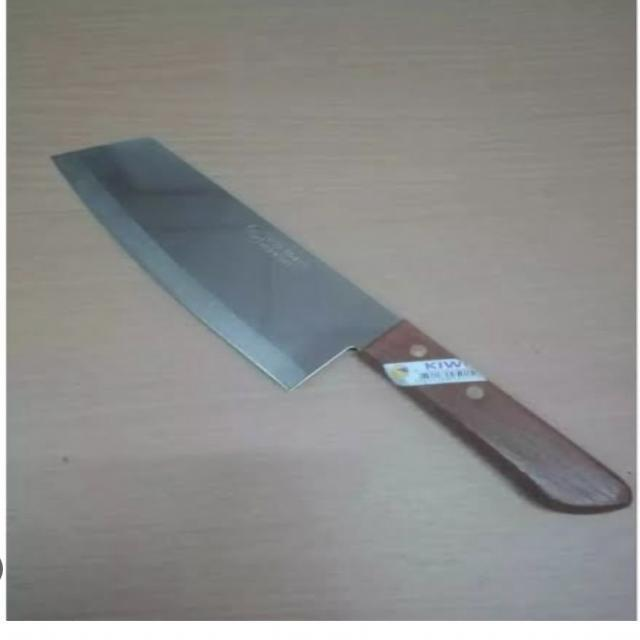Knife: (39, 117, 636, 528)
